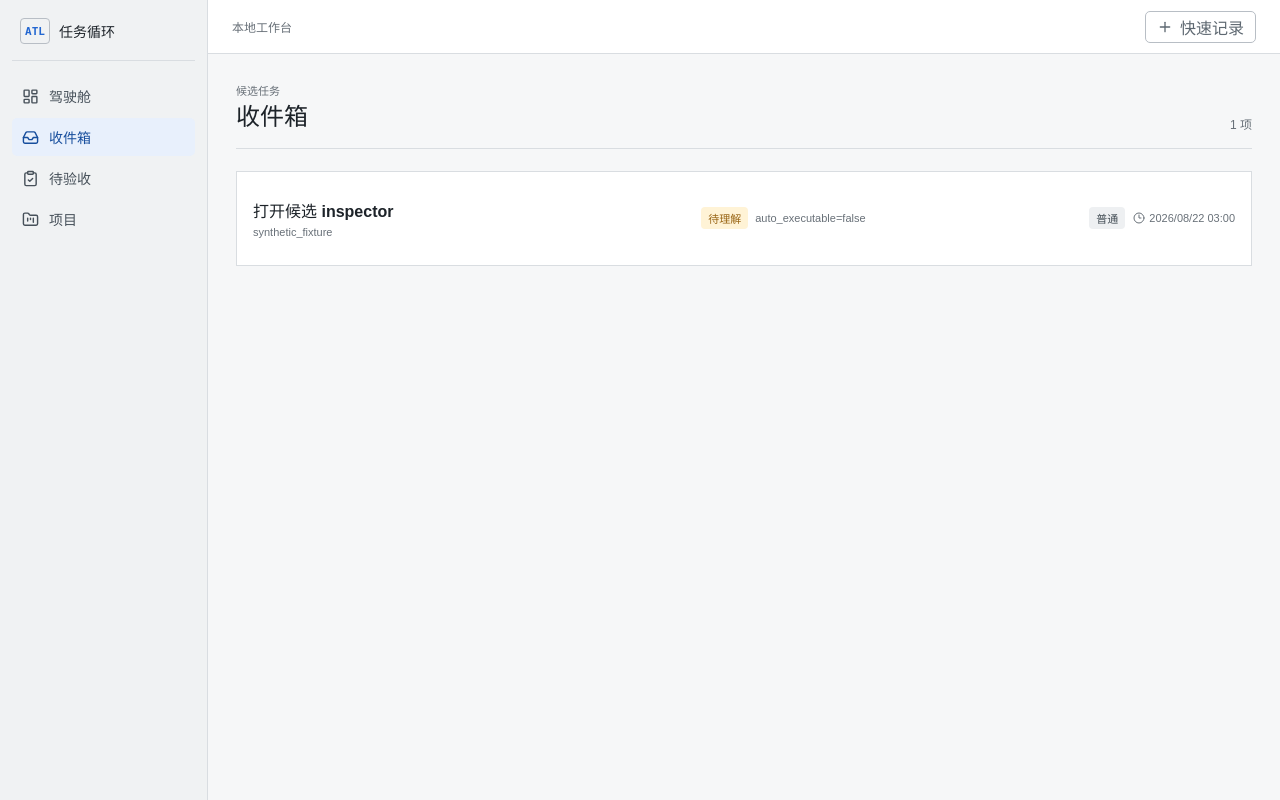
Scenario: page data states › opens the shared candidate inspector from a selectable inbox row
Click the button "打开候选 inspector" at (744, 219), box x1=236 y1=172 x2=1252 y2=266
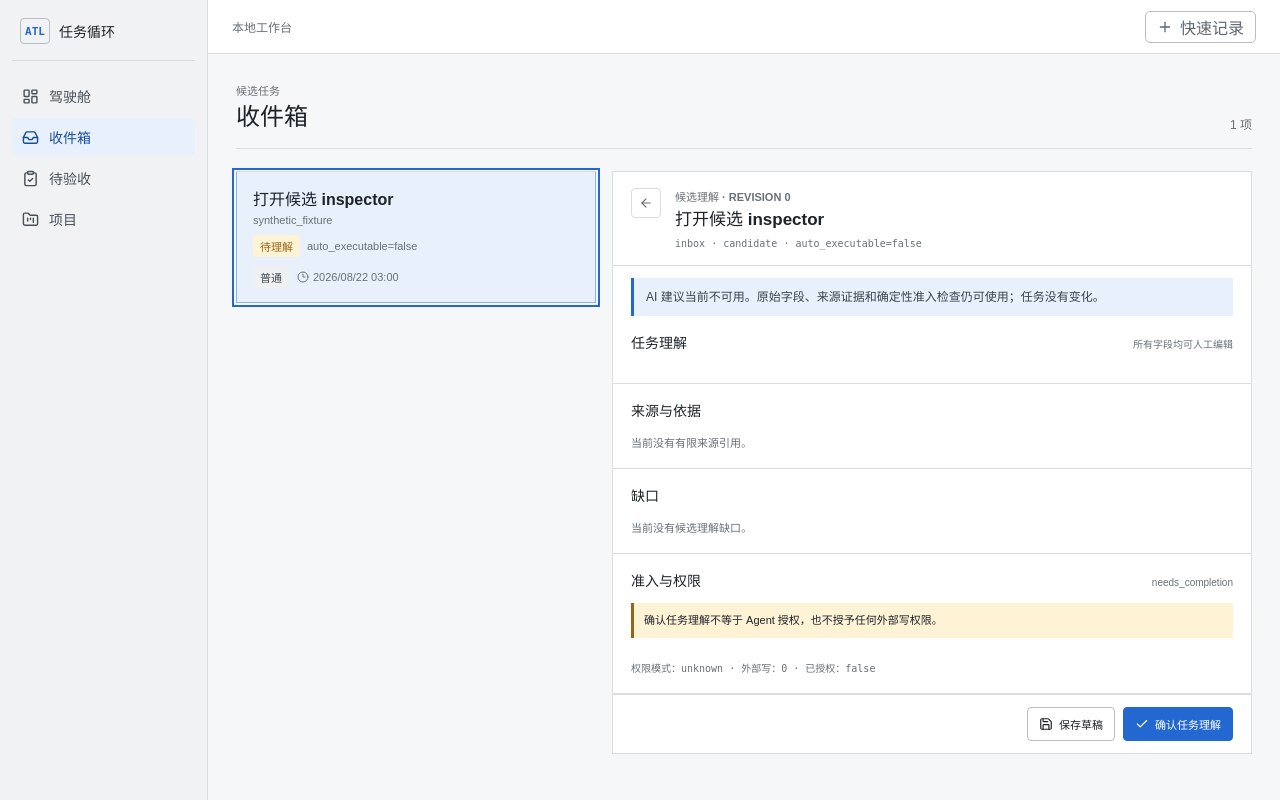
Expected: the heading "打开候选 inspector" is shown, x1=675 y1=210 x2=824 y2=229
Expected: the text "确认任务理解不等于 Agent 授权，也不授予任何外部写权限。" is shown, x1=631 y1=603 x2=1233 y2=638
Click the button named "返回候选列表" at (646, 203), box x1=631 y1=188 x2=661 y2=218
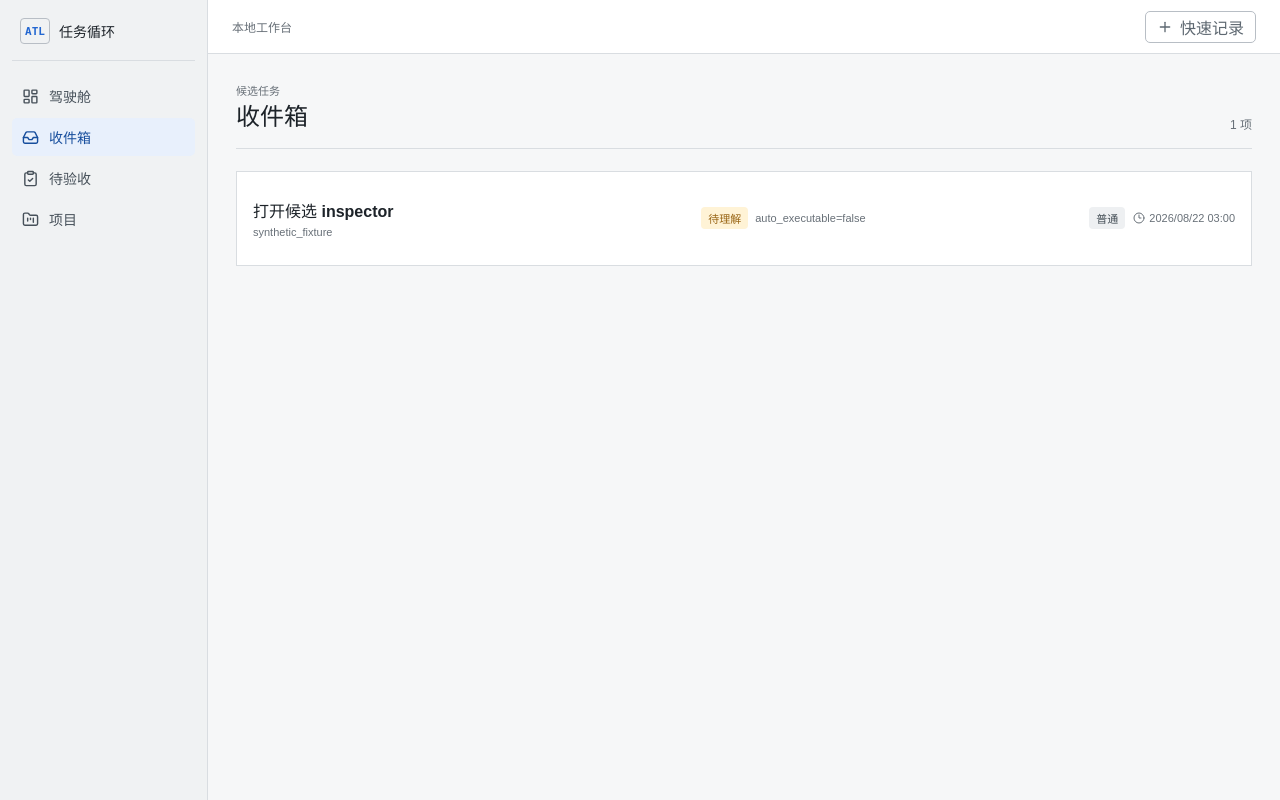
Expected: the heading "准入与权限" is gone
